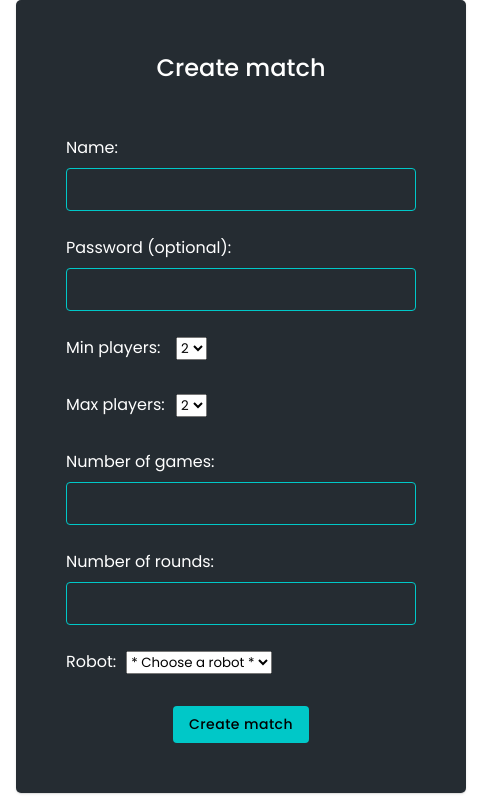
Test case: Configuracion de partida test › 1. New match with all fields completed
Type "RocoloGames" into the field with test id "name".
click(241, 190); type("RocoloGames")  # box [66,168,416,211]
Type "UWU" into the password field with test id "password".
click(241, 290); type("UWU")  # box [66,268,416,311]
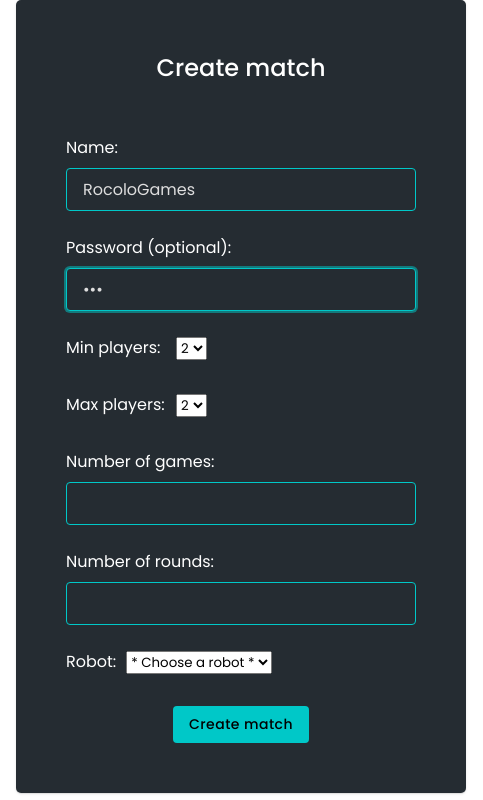
Select "2" in the dropdown with test id "minPlayers" at (192, 348), box [176,337,207,360]
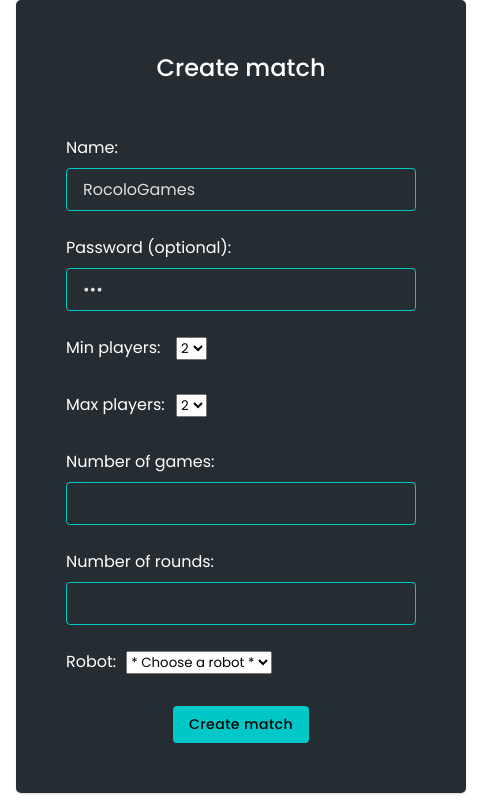
Select "3" in the dropdown with test id "maxPlayers" at (192, 406), box [176,394,207,417]
Type "2" into the field with test id "nGames".
click(241, 504); type("2")  # box [66,482,416,525]
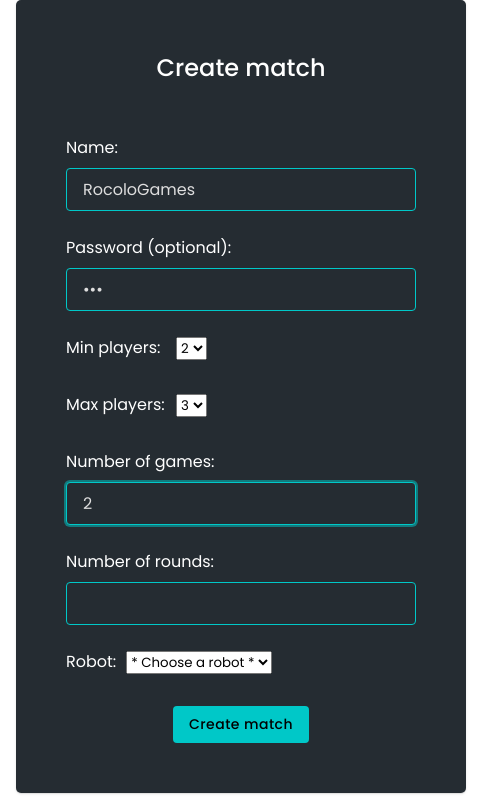
Type "5" into the field with test id "nRounds".
click(241, 604); type("5")  # box [66,582,416,625]
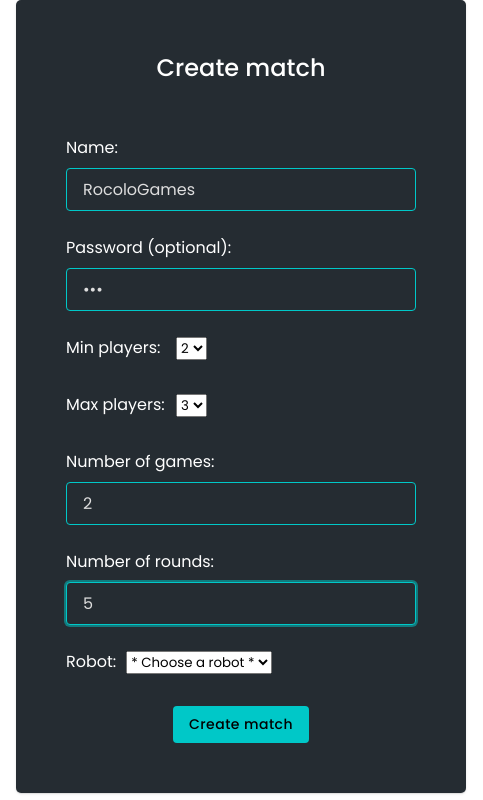
Select "Soyunrobot" in the dropdown with test id "nameRobot" at (199, 662), box [126,651,272,674]
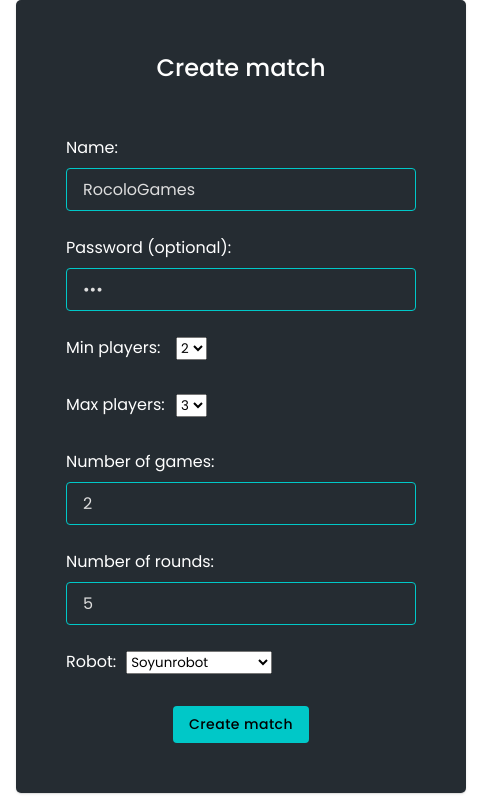
Click the button with test id "submit".
click(241, 724)  # box [173,706,309,743]
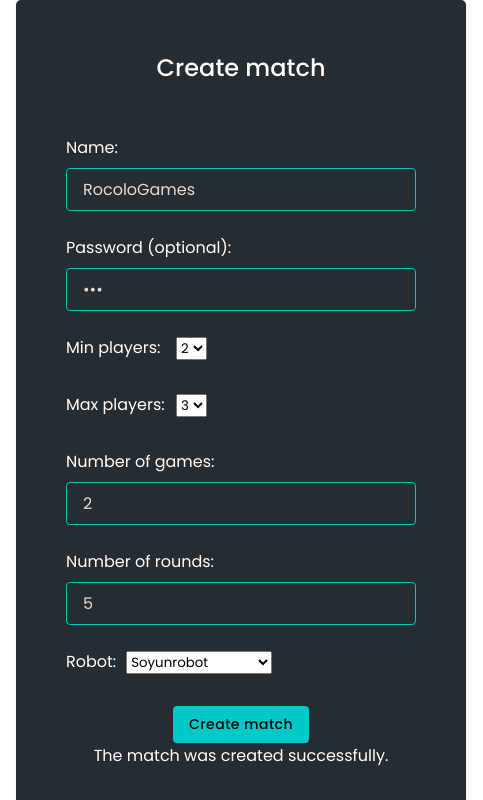
Expected: the text with test id "alertSuccess" reads "The match was created successfully.", [94,744,388,767]
